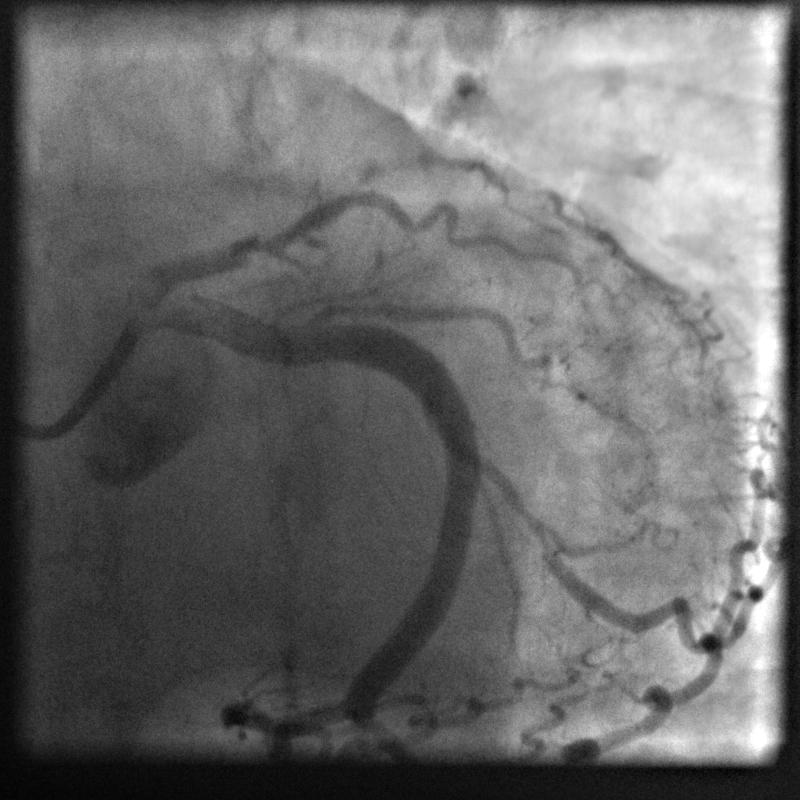Stenosis: (470, 437, 559, 574)
